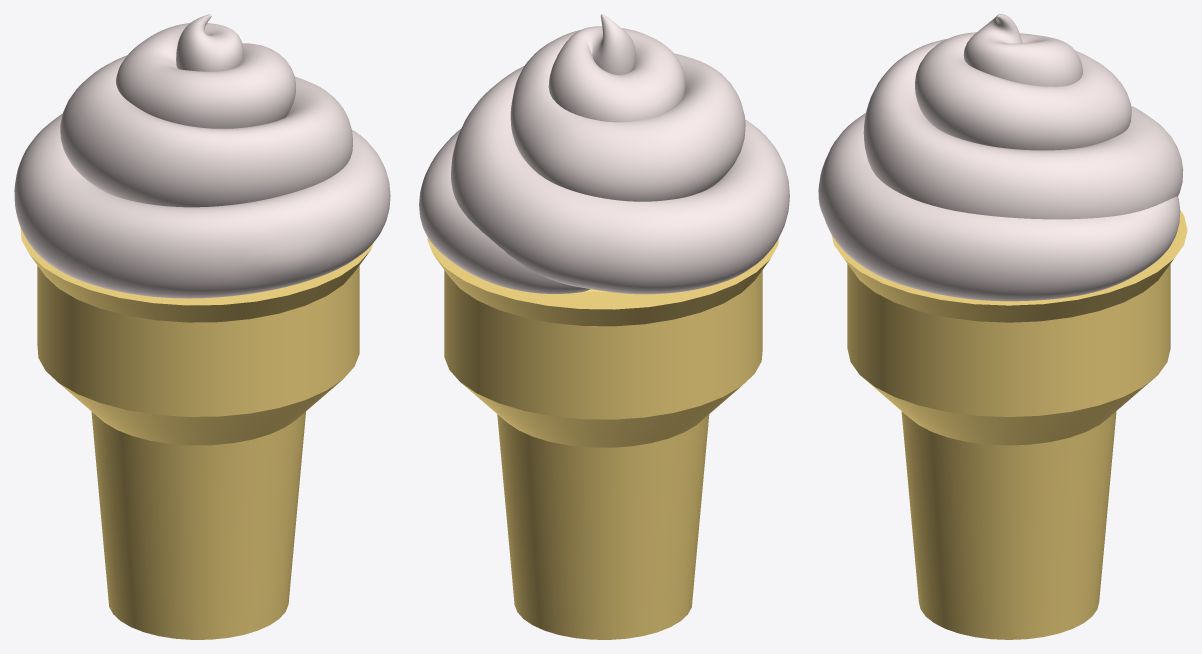
The model's file is soft_ice_cream.fbx.
The picture shows the model from 3 angles, left to right: view 1: azimuth 30°, elevation 25°; view 2: azimuth 150°, elevation 25°; view 3: azimuth 270°, elevation 25°; orthographic projection.
Visible parts, largest first — view 1: Circle.2251; view 2: Circle.2251; view 3: Circle.2251.
Part boxes in pixels (x1,y1,x2,y2): Circle.2251: (14, 14, 390, 639); Circle.2251: (419, 14, 789, 639); Circle.2251: (818, 14, 1187, 639).
Size of the model in its own units: 132 by 231 by 130.
Materials: 1 (1 with a texture image).
